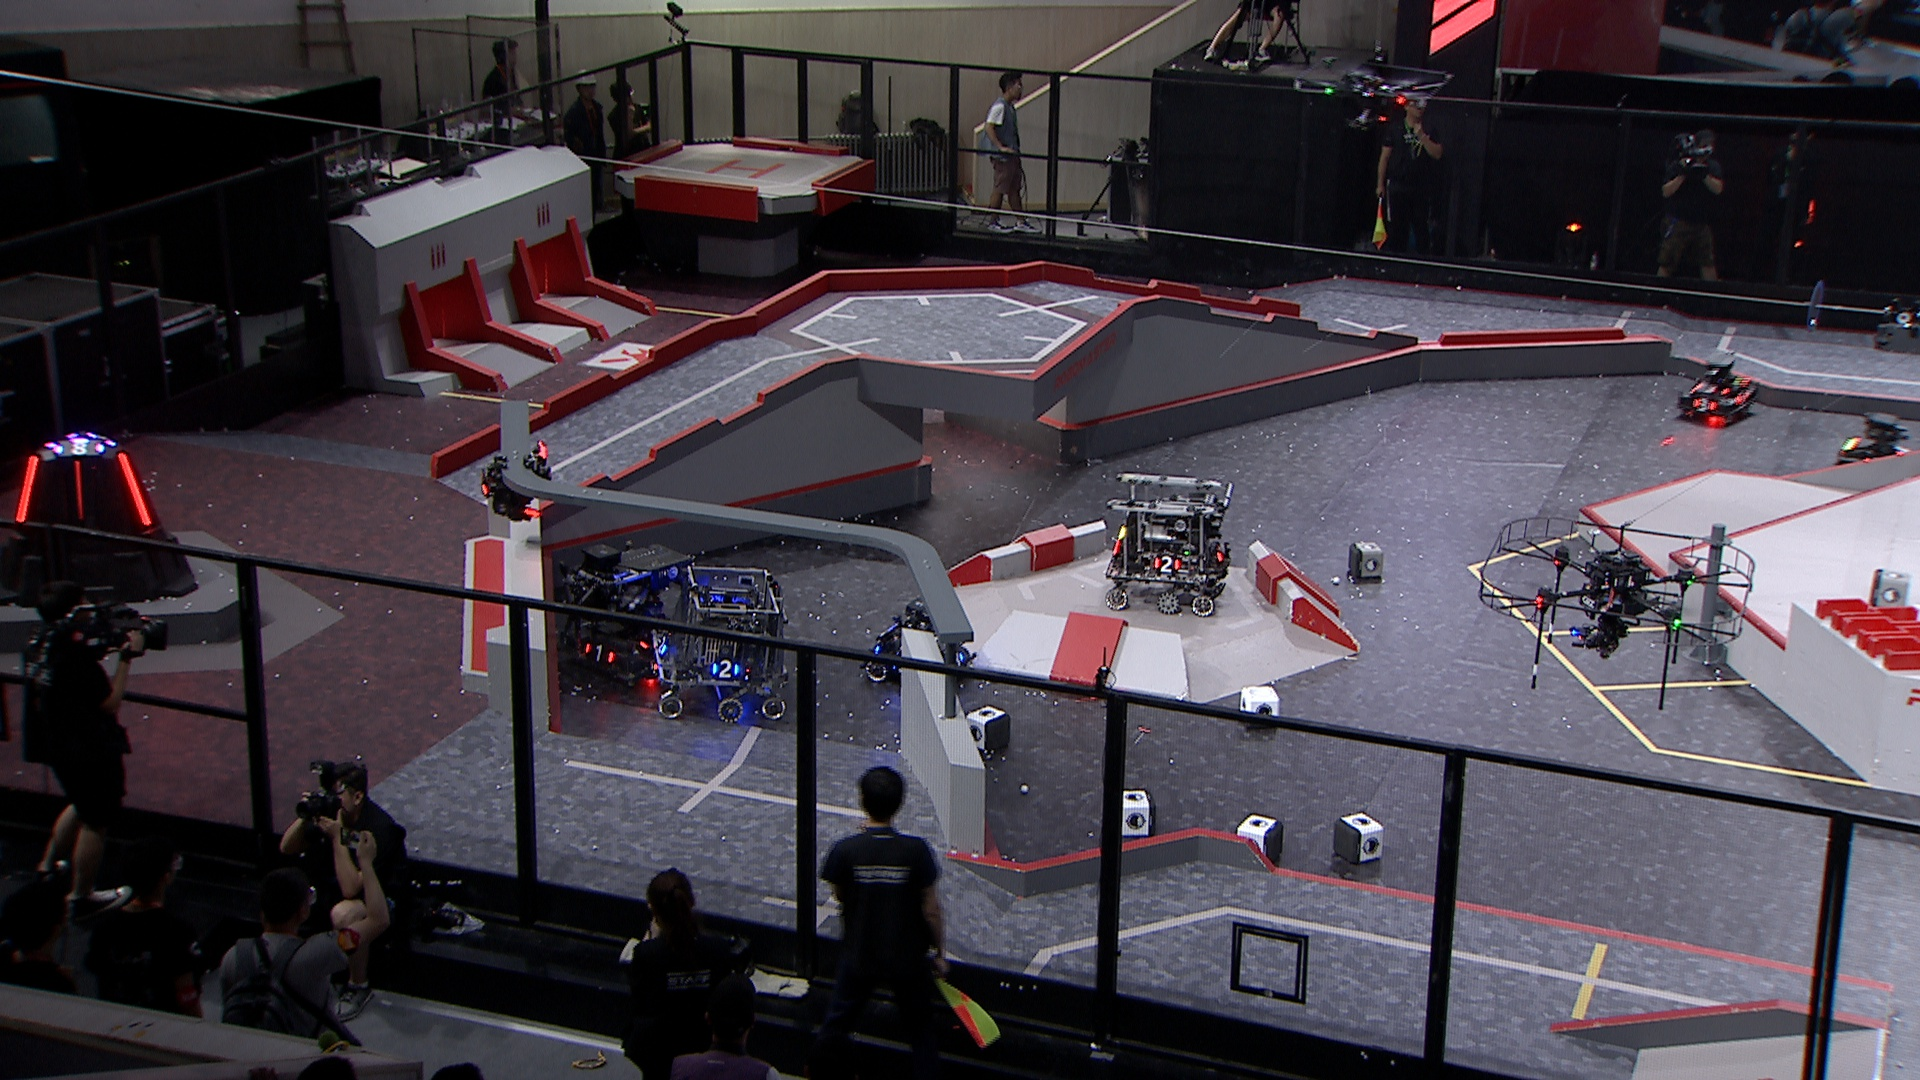armor: (117, 451, 153, 529), (13, 451, 40, 526), (71, 458, 86, 527), (709, 657, 741, 679), (584, 644, 612, 665), (1695, 381, 1731, 396), (1153, 556, 1179, 574), (657, 632, 670, 659), (1693, 398, 1717, 413), (1733, 389, 1749, 404), (951, 647, 964, 665), (1894, 444, 1907, 458)
car: (651, 564, 796, 721), (533, 538, 680, 690), (1102, 471, 1233, 622), (861, 595, 982, 692), (1673, 349, 1764, 433), (1832, 407, 1920, 483)
ignore: (53, 436, 100, 456)
watcher: (475, 440, 560, 529)
